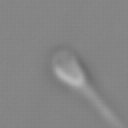normal: (79, 84, 122, 128)
